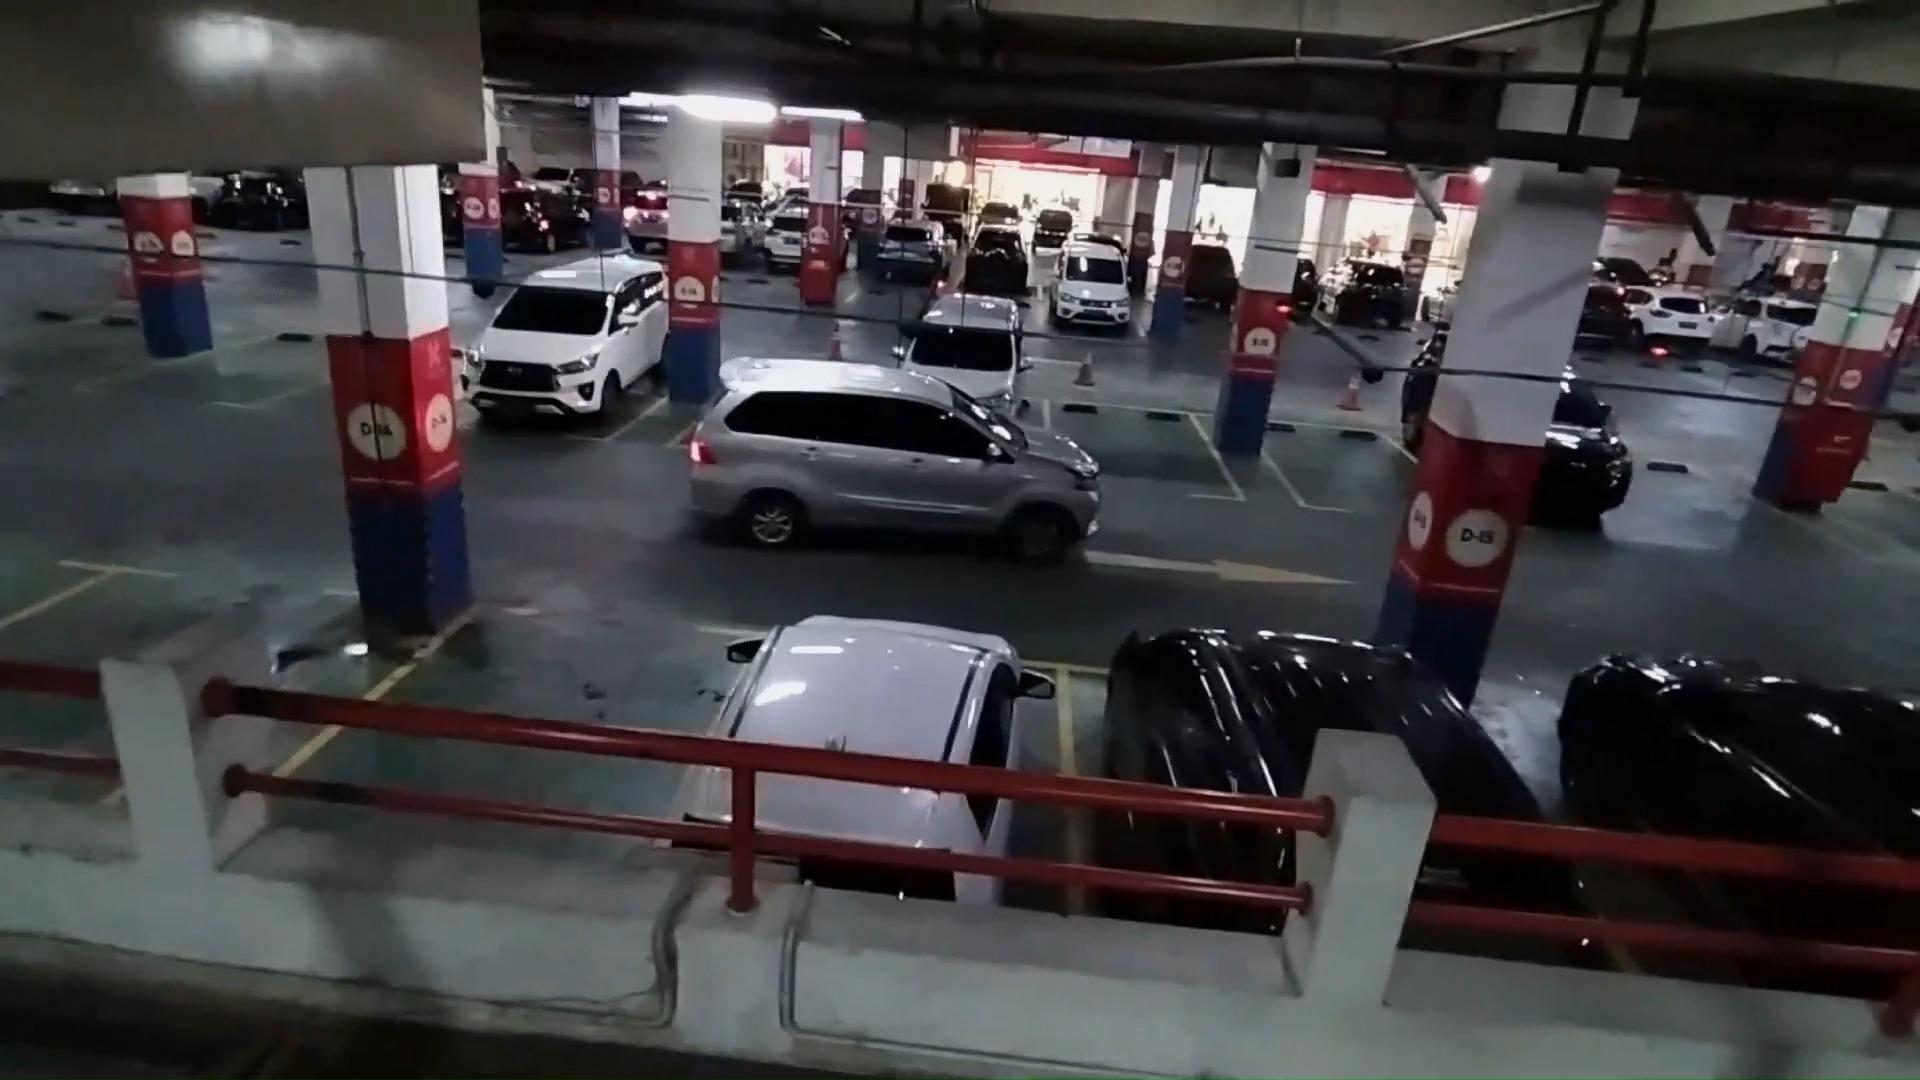empty: (351, 602, 756, 867), (0, 552, 359, 776), (1040, 398, 1248, 503), (1258, 418, 1419, 513)
occupied: (1059, 643, 1551, 957), (691, 613, 1073, 918), (460, 276, 667, 447)
